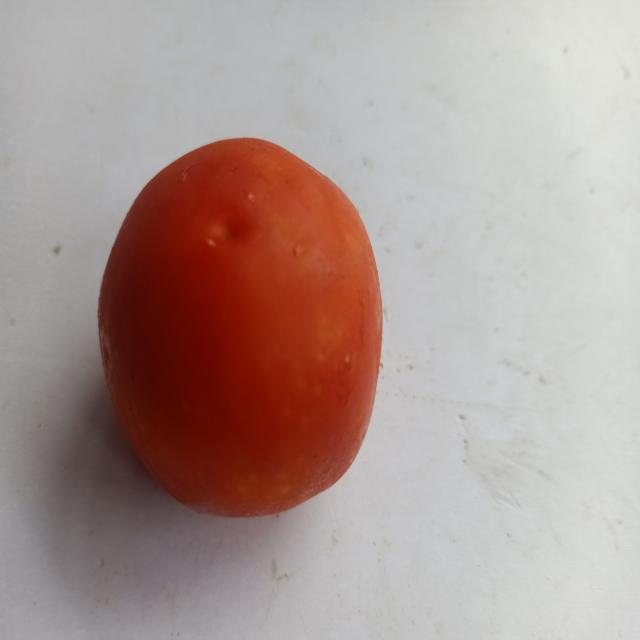Tomato: (76, 107, 409, 564)
